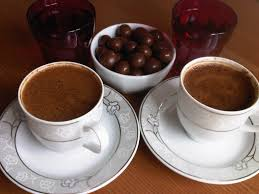kahve: (17, 61, 105, 155)
